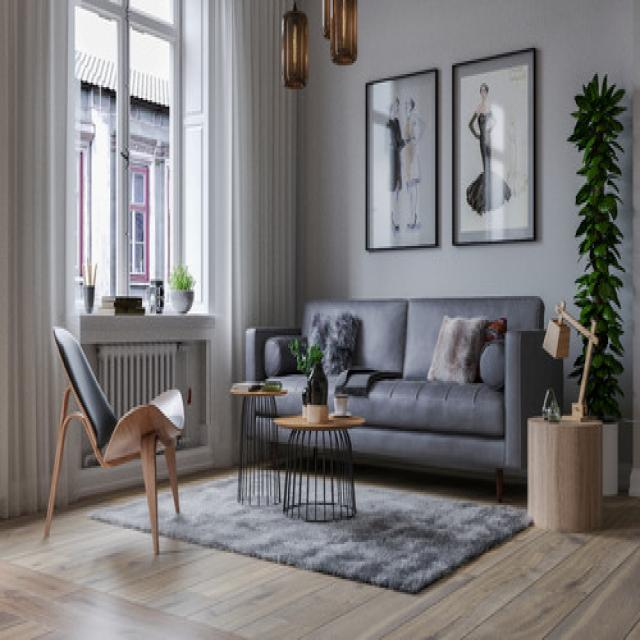modern chair: (29, 313, 189, 572)
modern sofa: (237, 270, 560, 484)
